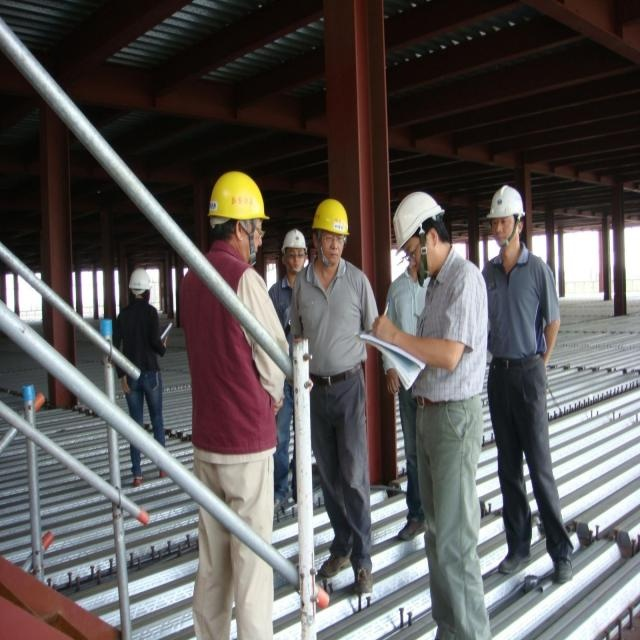Con_Casco: (311, 197, 349, 259), (489, 185, 523, 252)
